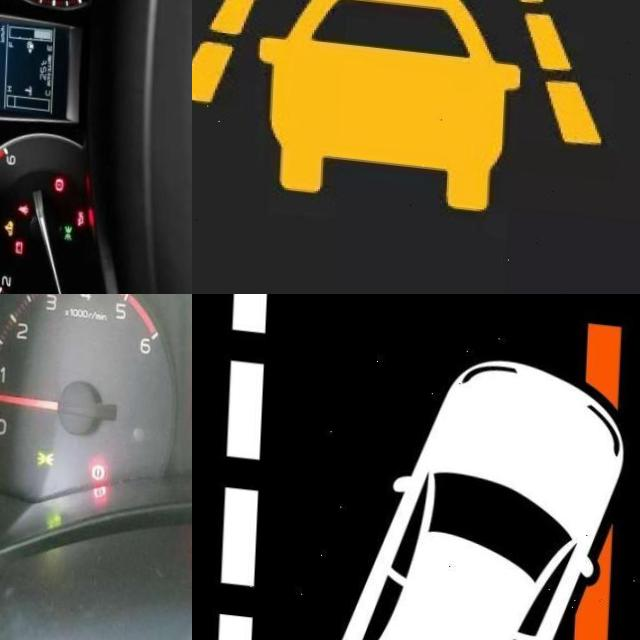Seat Belt: (22, 196, 34, 208)
